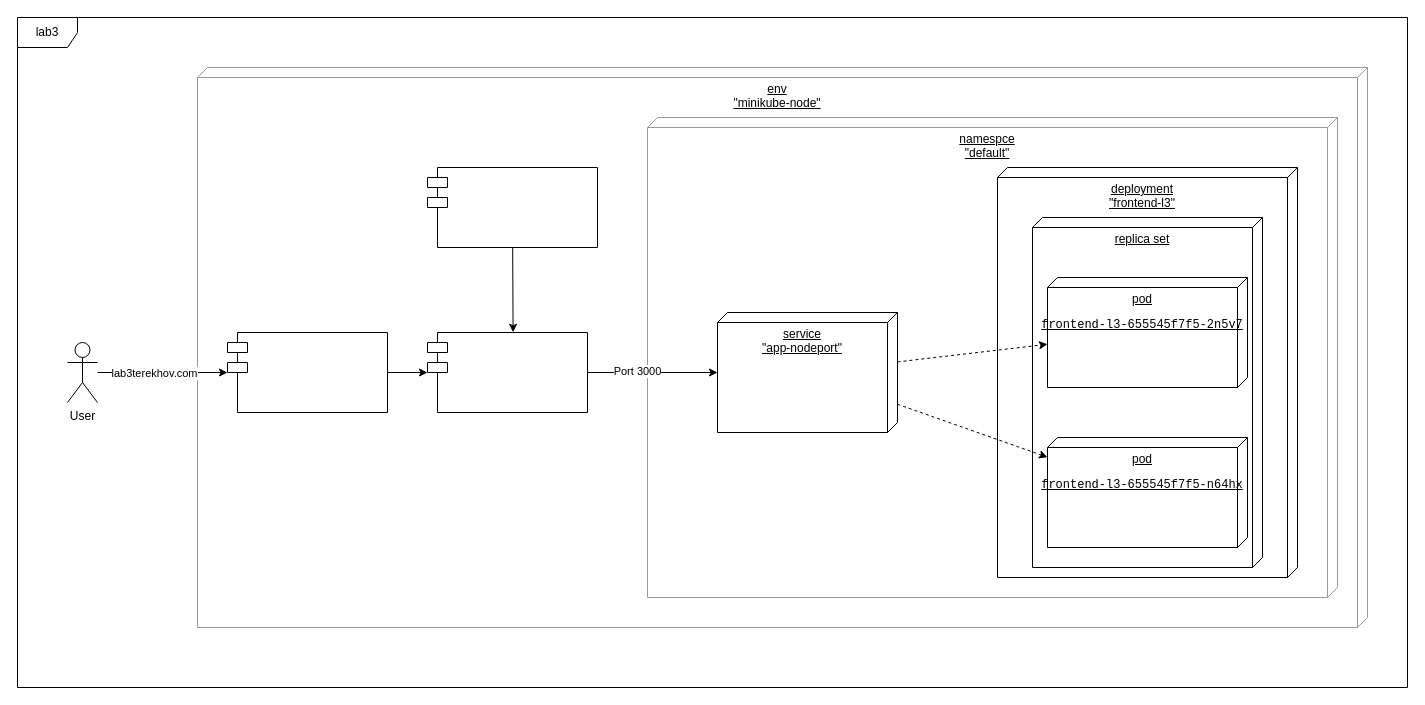
Some shapes in this 1425 by 705 pixel diagram are drawn without their labels. The shapes that lost their labels are listed below. From the top down, each one's box as (x1, y1, x2, y2) in pixels, then its label:
(426, 166, 598, 248): Module " Secret with TLS "
(226, 332, 388, 412): Module " IngressController "
(426, 332, 588, 412): Module " Ingress "
